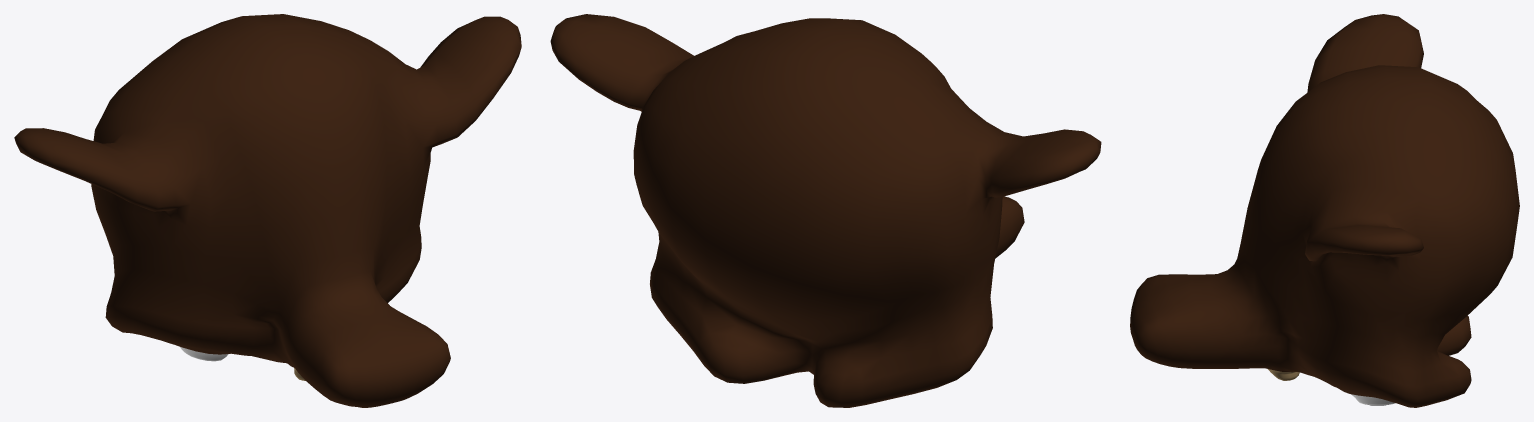
The model's file is Monkey.fbx.
The picture shows the model from 3 angles, left to right: view 1: azimuth 30°, elevation 25°; view 2: azimuth 150°, elevation 25°; view 3: azimuth 270°, elevation 25°; orthographic projection. The views are drawn at different scales.
Parts seen in each view (by area): view 1: Monkey; view 2: Monkey; view 3: Monkey.
Boxes of the visible parts, bbox=[...] form: Monkey: bbox=[14, 14, 521, 407]; Monkey: bbox=[550, 14, 1101, 407]; Monkey: bbox=[1130, 14, 1519, 407].
Size of the model in its own units: 265 by 160 by 191.
